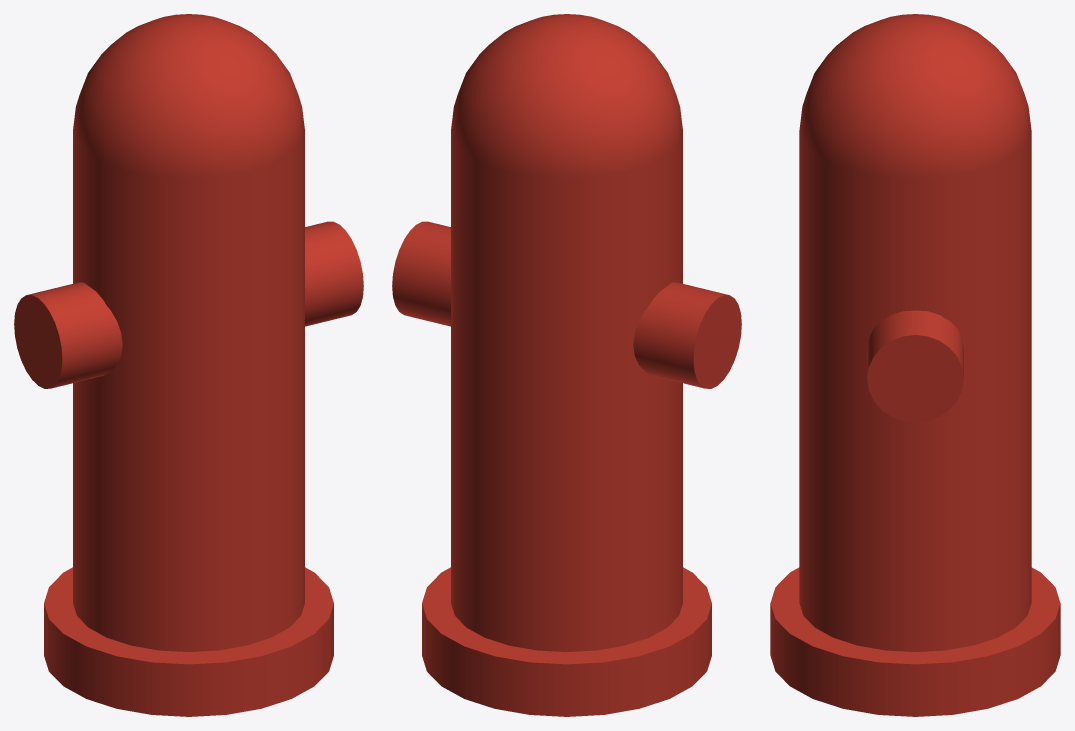
File: hydrant.glb
The picture shows the model from 3 angles, left to right: view 1: azimuth 30°, elevation 25°; view 2: azimuth 150°, elevation 25°; view 3: azimuth 270°, elevation 25°; orthographic projection.
Parts seen in each view (by area): view 1: hydrant; view 2: hydrant; view 3: hydrant.
Part boxes in pixels (x1,y1,x2,y2): hydrant: (14,14,363,716); hydrant: (392,14,741,716); hydrant: (770,14,1060,716).
Bounding box in the file's own units: 0.36 × 0.72 × 0.3.
